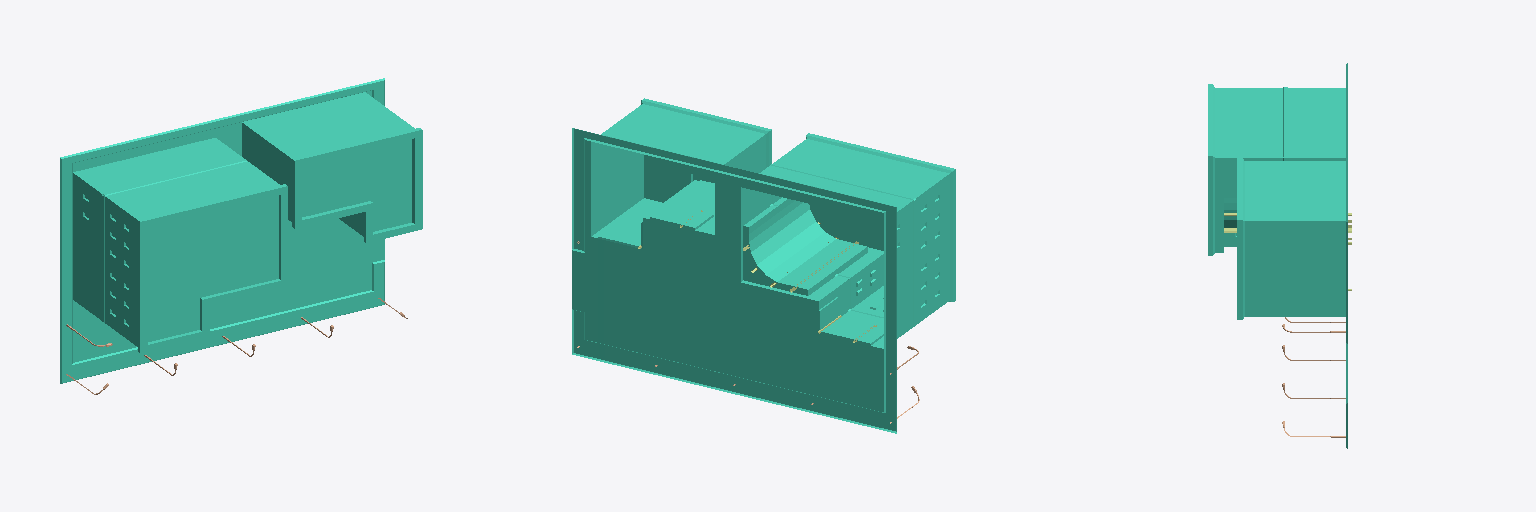
File: shopping_mall_03.obj
3 renders of one model, left to right at view 1: azimuth 30°, elevation 25°; view 2: azimuth 150°, elevation 25°; view 3: azimuth 270°, elevation 25°, orthographic.
Visible parts, largest first — view 1: Cylinder001; view 2: Cylinder001; view 3: Cylinder001.
Part boxes in pixels (x1,y1,x2,y2): Cylinder001: (60,78,422,383); Cylinder001: (572,98,955,433); Cylinder001: (1208,63,1347,448).
Bounding box in the file's own units: 376 × 251 × 145.